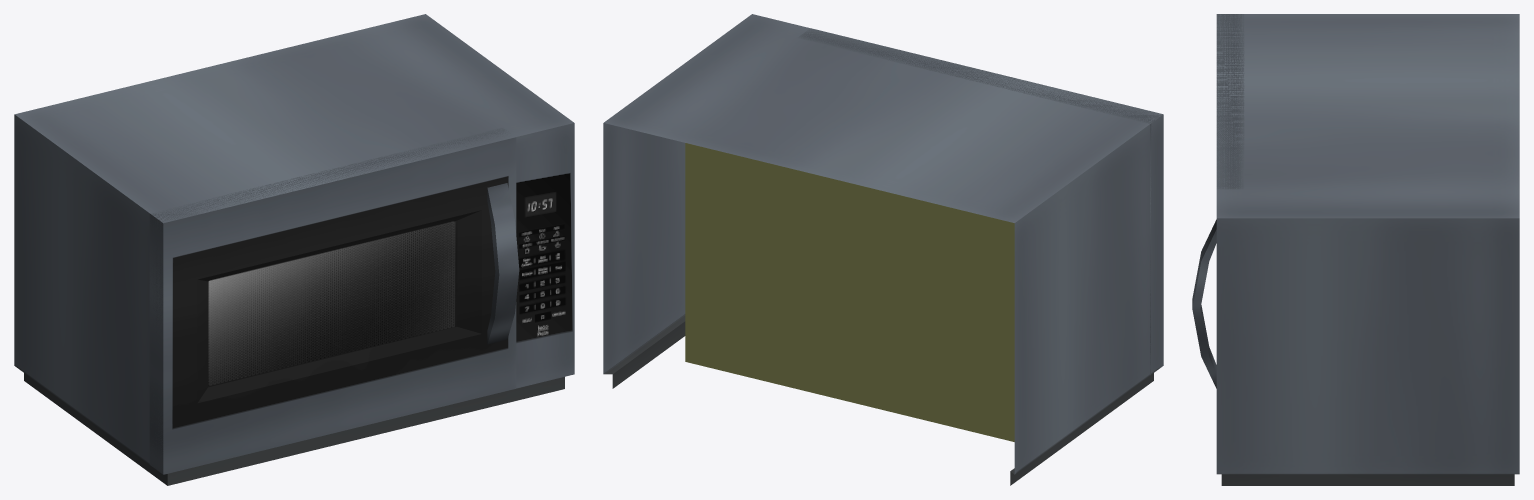
The model's file is MICROONDAS TEXTURIZADO.fbx.
3 renders of one model, left to right at view 1: azimuth 30°, elevation 25°; view 2: azimuth 150°, elevation 25°; view 3: azimuth 270°, elevation 25°, orthographic.
Visible parts, largest first — view 1: pCube1, pCube2, pCube3; view 2: pCube1, pCube2; view 3: pCube1, pCube2, pCube3.
Boxes of the visible parts, x1,y1,x2,y2 form: pCube1: (14,14,574,485); pCube2: (149,127,516,474); pCube3: (487,183,519,344); pCube1: (603,14,1163,485); pCube2: (797,28,1163,375); pCube1: (1216,14,1519,485); pCube2: (1216,14,1244,189); pCube3: (1192,219,1216,388).
Bounding box in the file's own units: 4.15 × 2.57 × 2.81.
